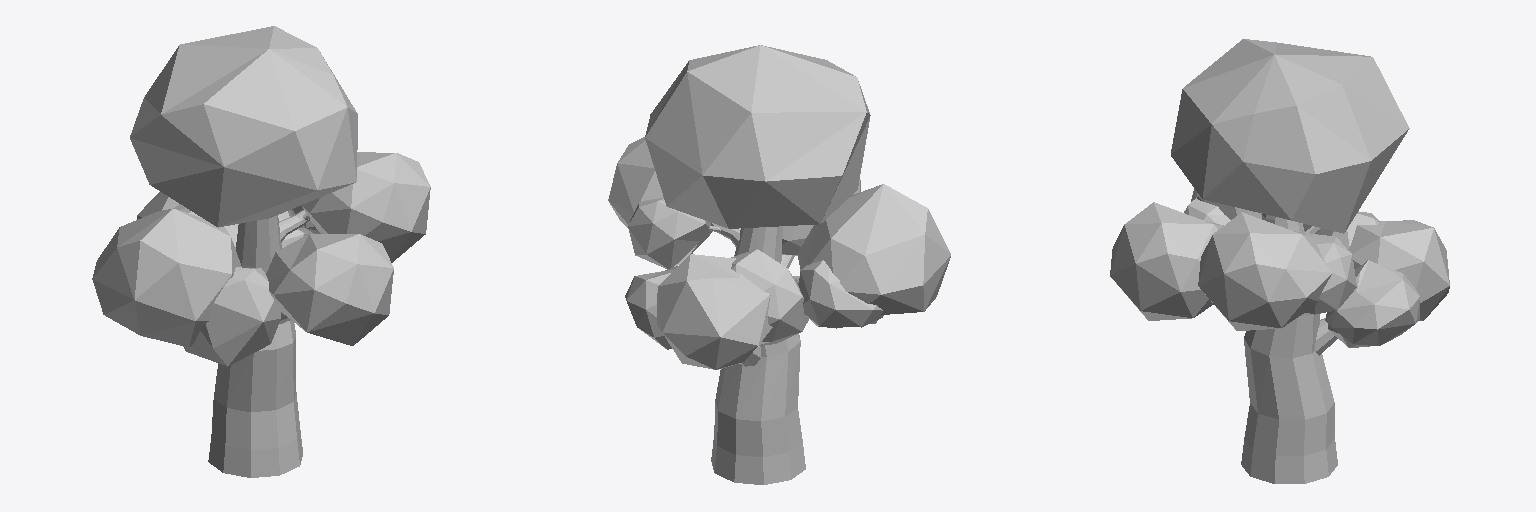
The model's file is Arvore 5-1.obj.
The picture shows the model from 3 angles: view 1: azimuth 30°, elevation 25°; view 2: azimuth 150°, elevation 25°; view 3: azimuth 270°, elevation 25°; orthographic projection.
Visible parts, largest first — view 1: Cylinder.009; view 2: Cylinder.009; view 3: Cylinder.009.
Boxes of the visible parts, x1,y1,x2,y2 form: Cylinder.009: [92, 26, 430, 477]; Cylinder.009: [608, 45, 950, 484]; Cylinder.009: [1110, 39, 1449, 483].
Bounding box in the file's own units: 12.03 × 14.88 × 11.11.